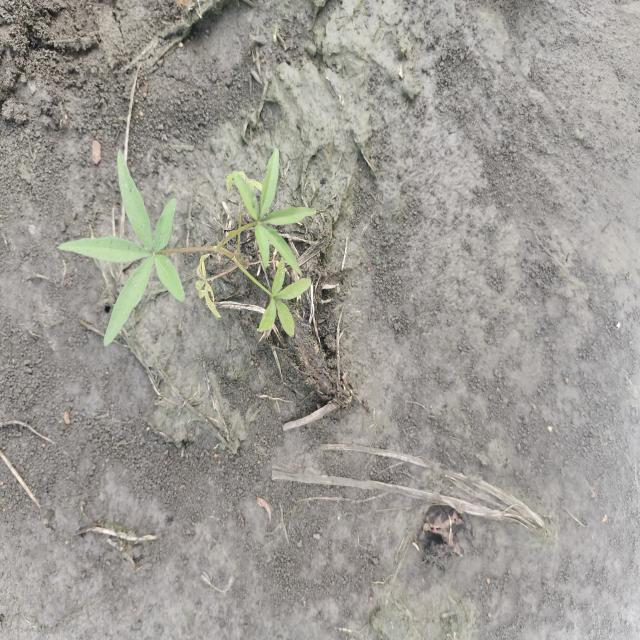MorningGlory: (52, 148, 318, 348)
